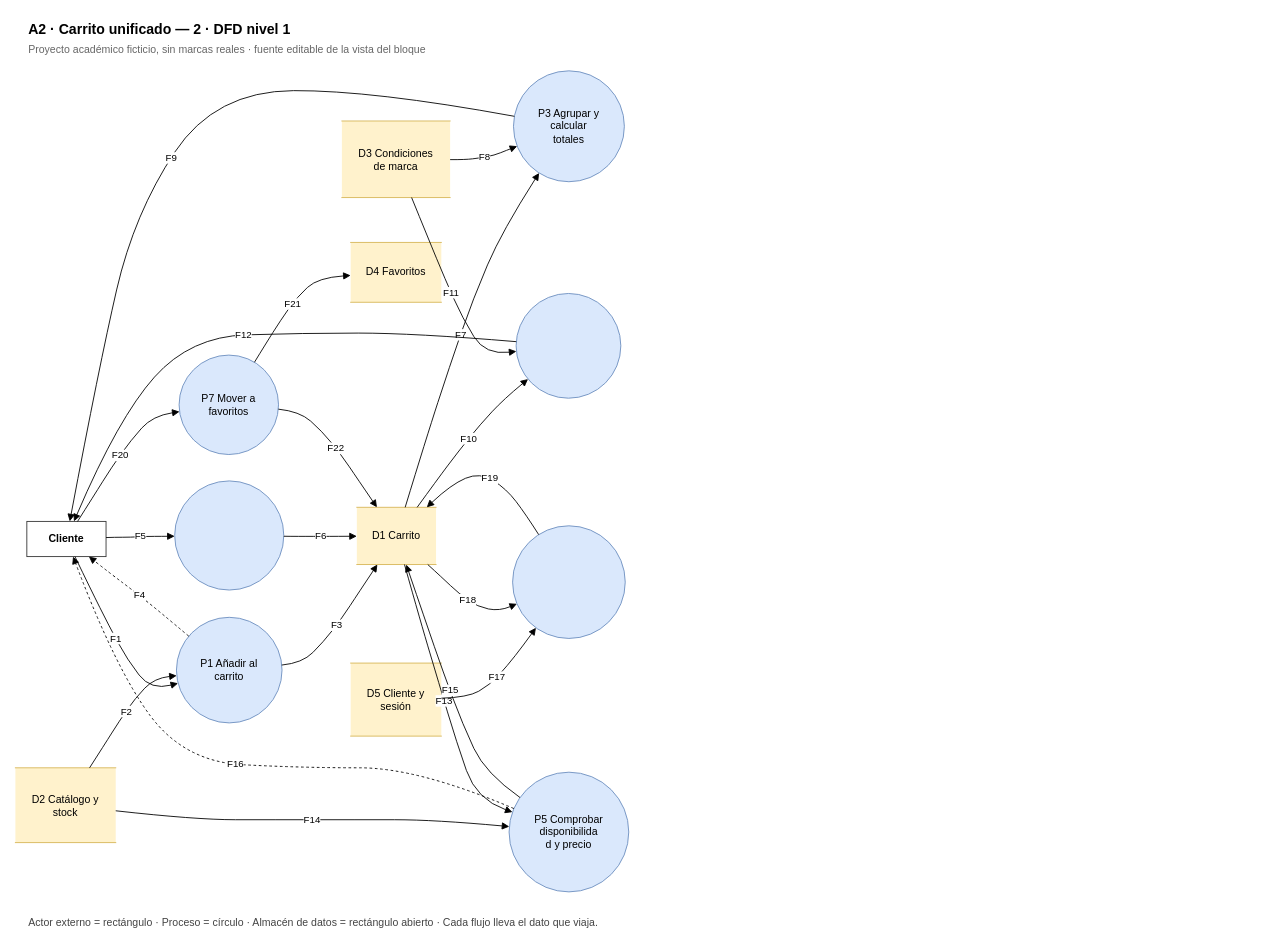
Image size: 1274x946. Some labels were removed from this diagram. Here are the shapes that lost their labels. From the top down, the centre of each, then its label:
the point at 568,345: P4 Informar plazos y condiciones
the point at 229,535: P2 Modificar carrito
the point at 568,581: P6 Conservar y unir carrito
